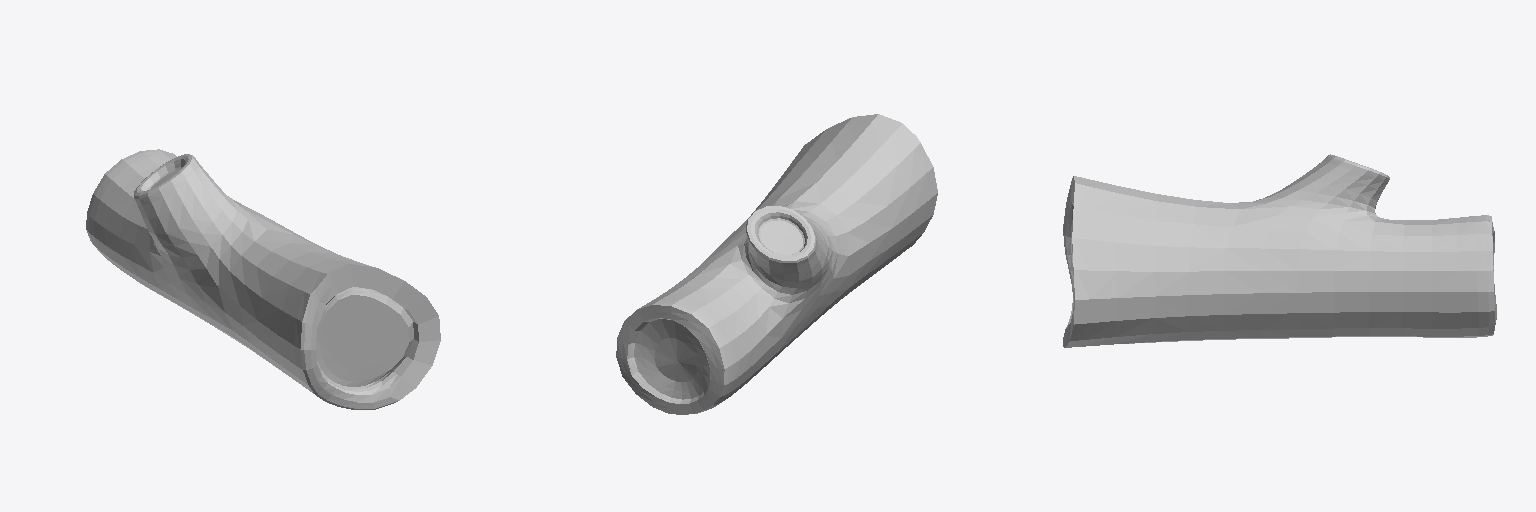
The model's file is Tronco.obj.
3 views of the same model, side by side, from view 1: azimuth 30°, elevation 25°; view 2: azimuth 150°, elevation 25°; view 3: azimuth 270°, elevation 25° (orthographic).
Visible parts, largest first — view 1: Box001; view 2: Box001; view 3: Box001.
Boxes of the visible parts, x1,y1,x2,y2 form: Box001: [86, 149, 440, 409]; Box001: [616, 114, 937, 414]; Box001: [1063, 154, 1496, 347].
Size of the model in its own units: 40.27 by 38.11 by 92.59.